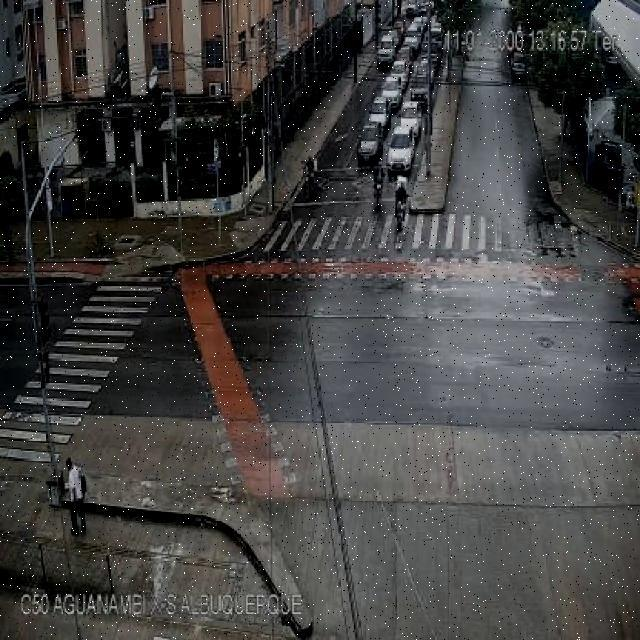Car: (386, 128, 416, 174), (356, 121, 384, 163), (397, 102, 422, 140), (369, 96, 389, 132), (374, 34, 396, 66), (379, 77, 401, 107), (387, 59, 409, 89), (410, 75, 429, 107)
Cycle: (394, 181, 409, 237), (372, 162, 387, 208)
